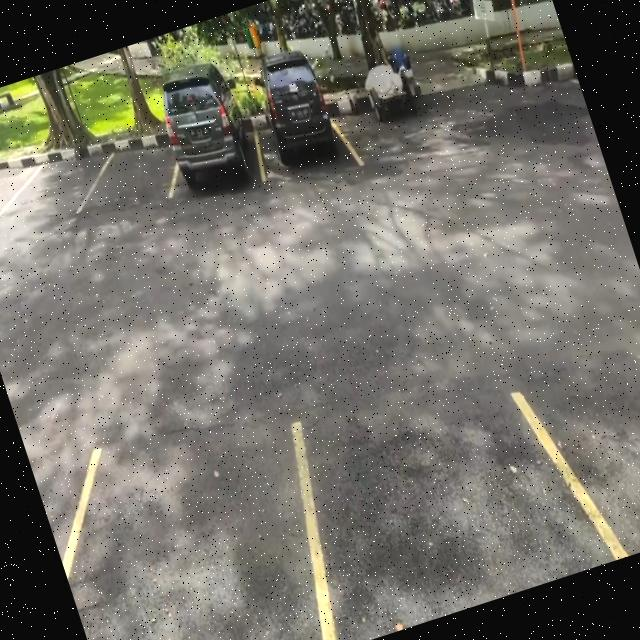empty: (278, 346, 607, 640), (44, 398, 347, 640), (82, 118, 181, 218), (5, 142, 104, 234), (0, 152, 27, 243)
occupied: (150, 67, 270, 210), (236, 56, 354, 185)
